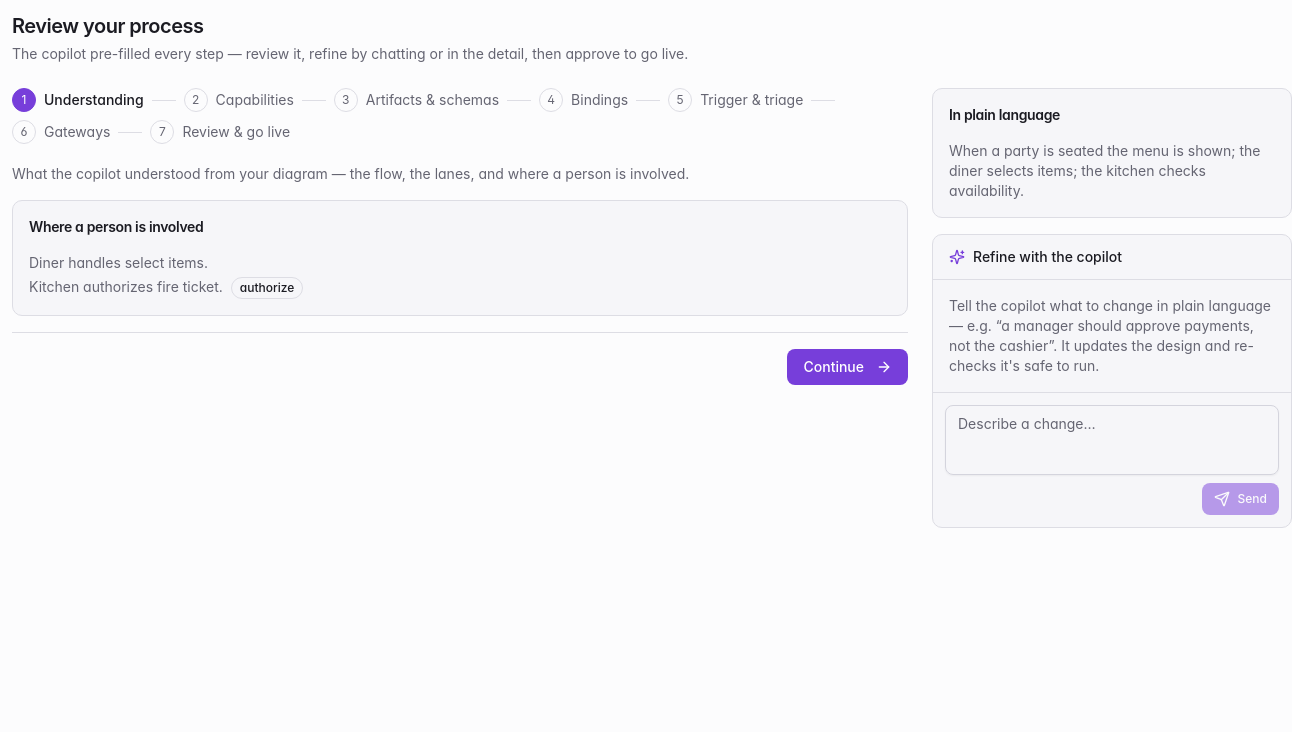
Copilot flow — Chat › renders a needs_clarification reply as a question and applies no change
The image size is (1292, 732).
Expected: the text "When a party is seated" is shown, [949,142,1260,199]
Type "make it safer" into the text box named "refine message" at (1112, 440), box [945,405,1279,475]
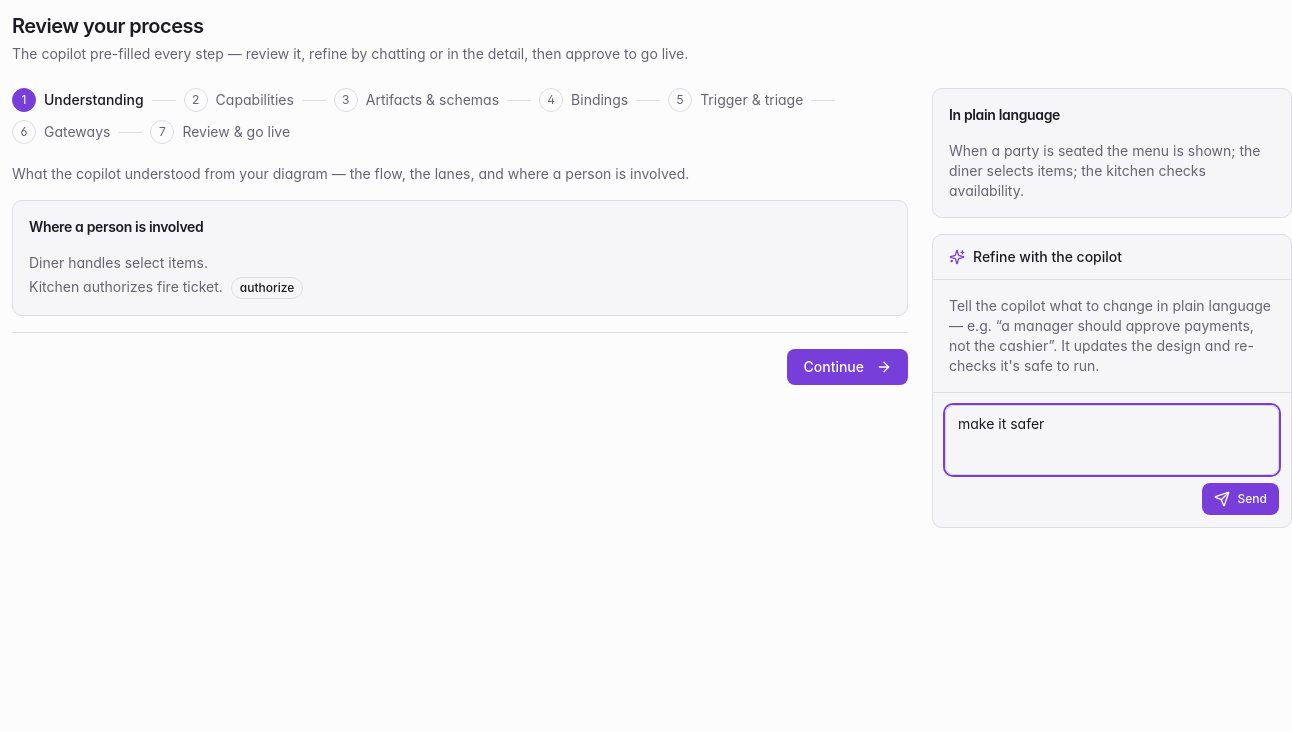
Click the button "Send" at (1240, 499), box [1202,483,1279,515]
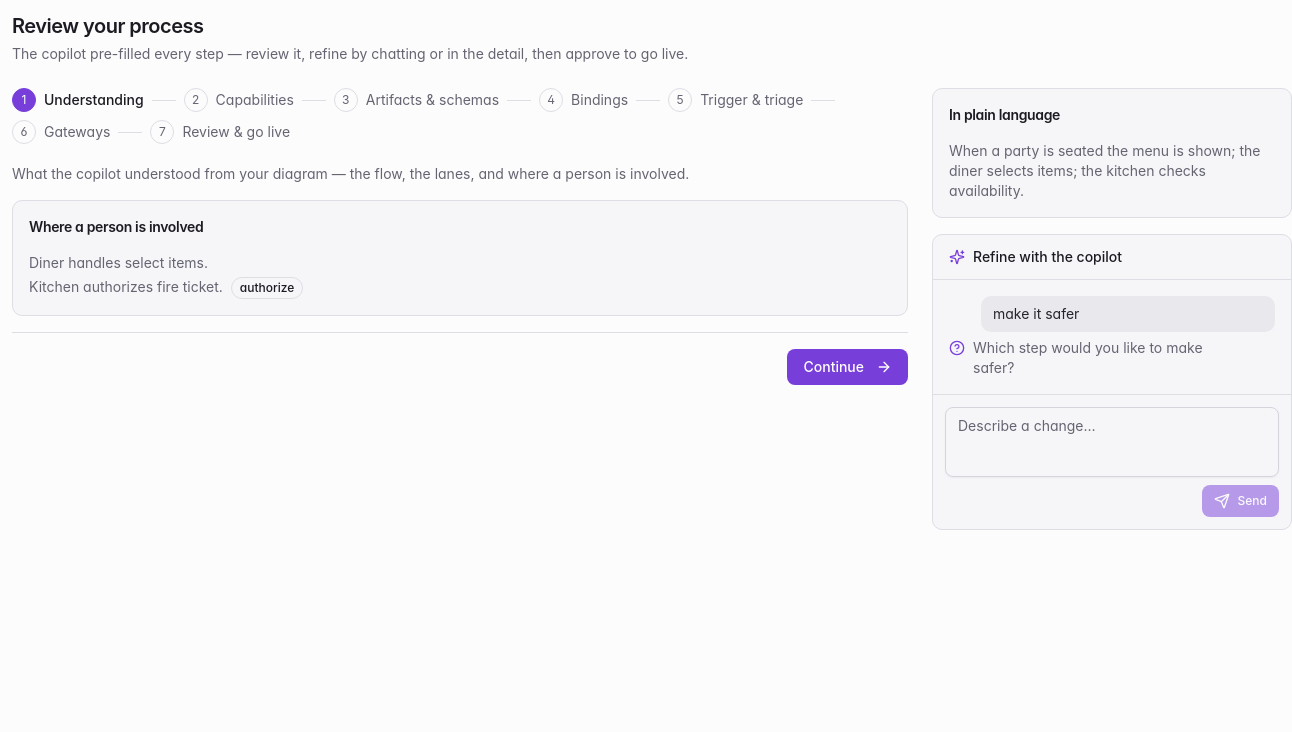
Expected: the text "Kitchen authorizes fire ticket. authorize" is shown, [29,277,303,299]
Now the text "Which step would you like to make safer?" is shown, box [973,338,1243,378]
